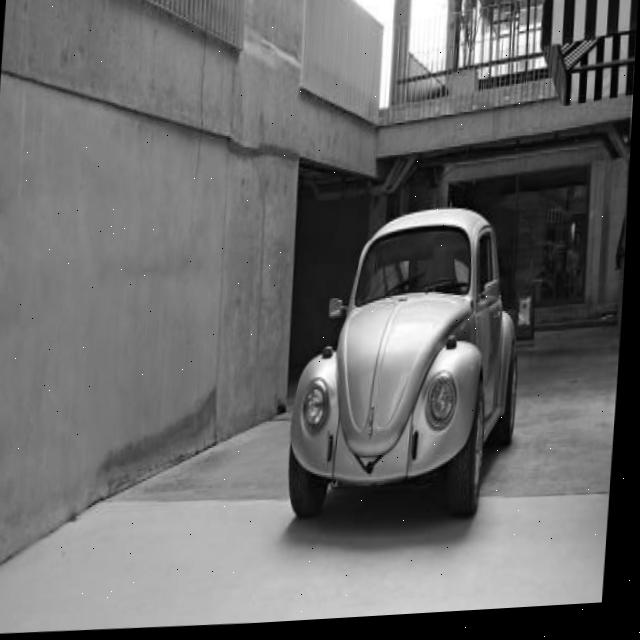vehicle: (288, 208, 534, 541)
